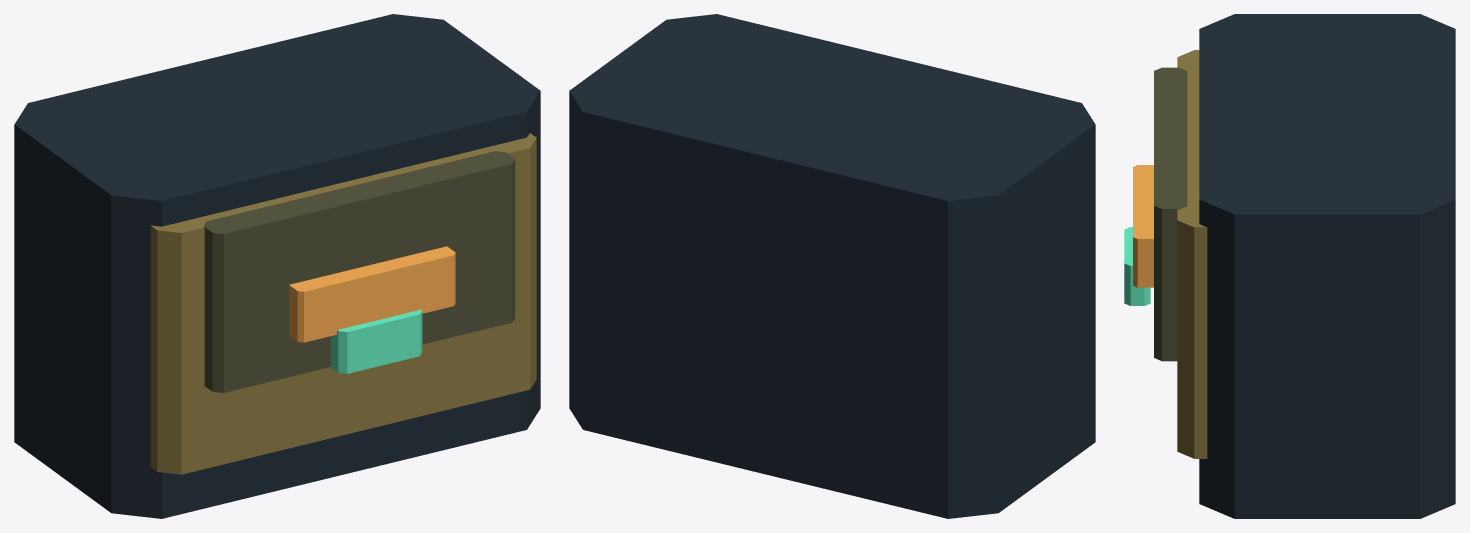
File: enemy_gunner_lod_body.obj
The picture shows the model from 3 angles, left to right: view 1: azimuth 30°, elevation 25°; view 2: azimuth 150°, elevation 25°; view 3: azimuth 270°, elevation 25°; orthographic projection. The views are drawn at different scales.
Size of the model in its own units: 1.07 by 0.8 by 0.75.
